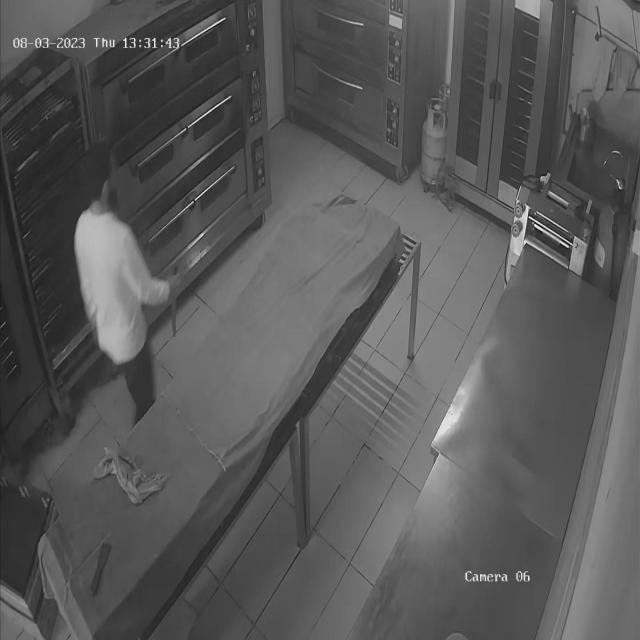Knife: (166, 268, 190, 342)
